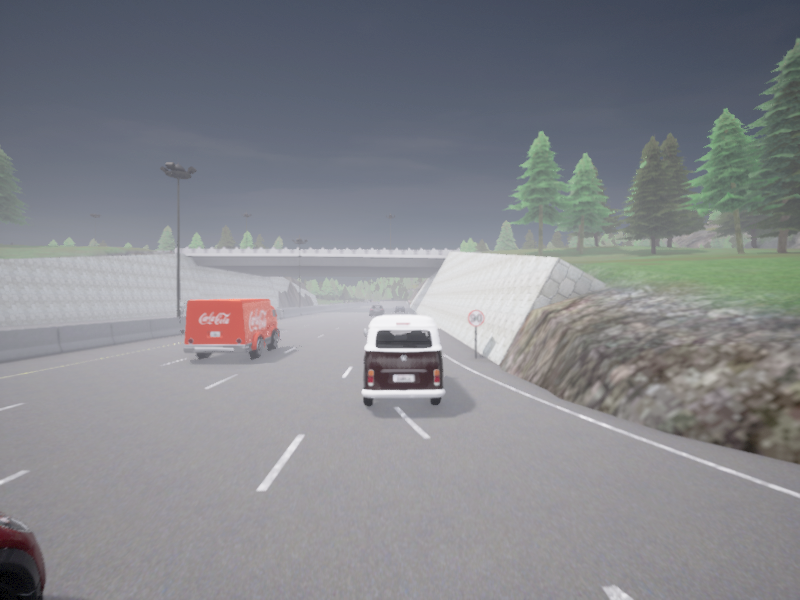vehicle: (361, 314, 444, 405), (183, 299, 283, 358), (0, 511, 45, 599), (370, 305, 384, 315), (395, 305, 404, 311)
